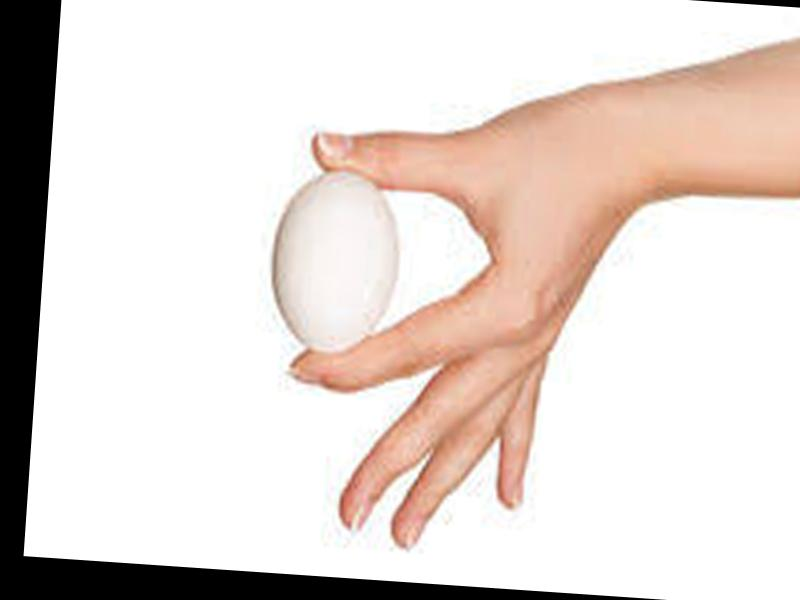Eggs: (263, 166, 404, 358)
